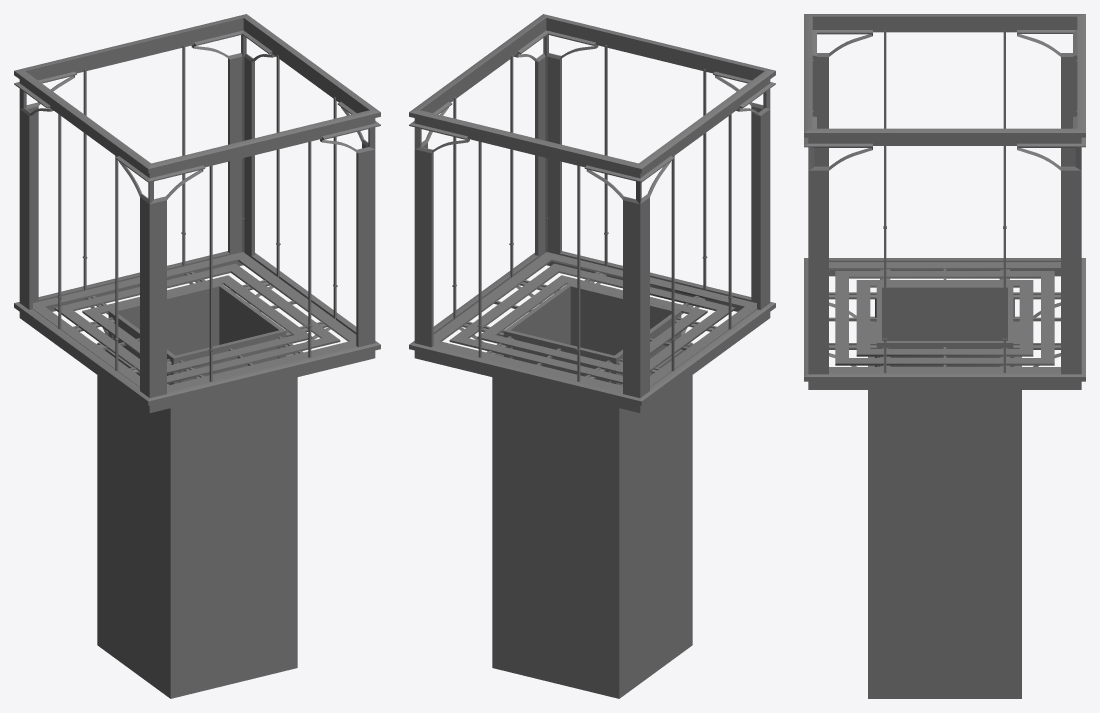
The model's file is tesla_structure_platform_01.dae.
The picture shows the model from 3 angles, left to right: view 1: azimuth 30°, elevation 25°; view 2: azimuth 150°, elevation 25°; view 3: azimuth 270°, elevation 25°; orthographic projection. The views are drawn at different scales.
Visible parts, largest first — view 1: polySurface471; view 2: polySurface471; view 3: polySurface471.
Boxes of the visible parts, left/top/right/bottom form: polySurface471: left=14, top=14, right=380, bottom=698; polySurface471: left=409, top=14, right=775, bottom=698; polySurface471: left=804, top=14, right=1085, bottom=698.
Bounding box in the file's own units: 8250 × 19179 × 8250.
